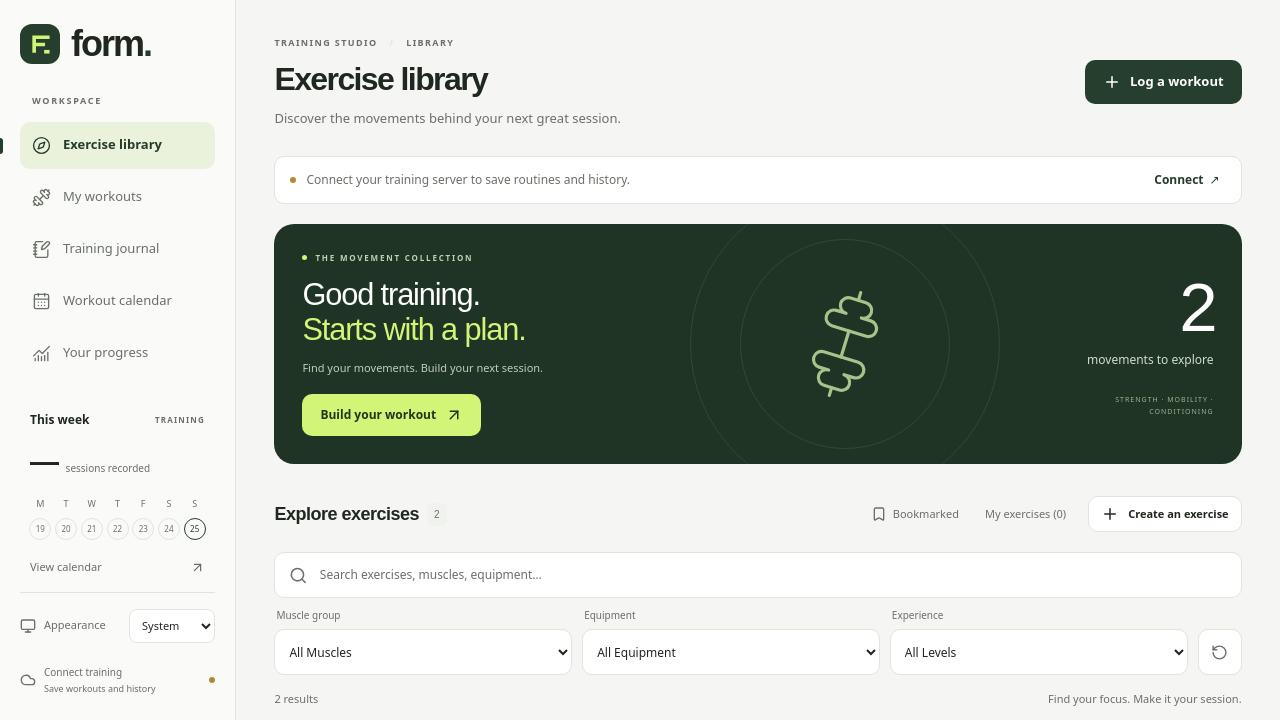
Test case: Exercise discovery and draft behavior › opens the workout logger without randomUUID on an HTTP LAN browser
Click the button "Log a workout" at (1163, 82), box [1085,60,1242,104]
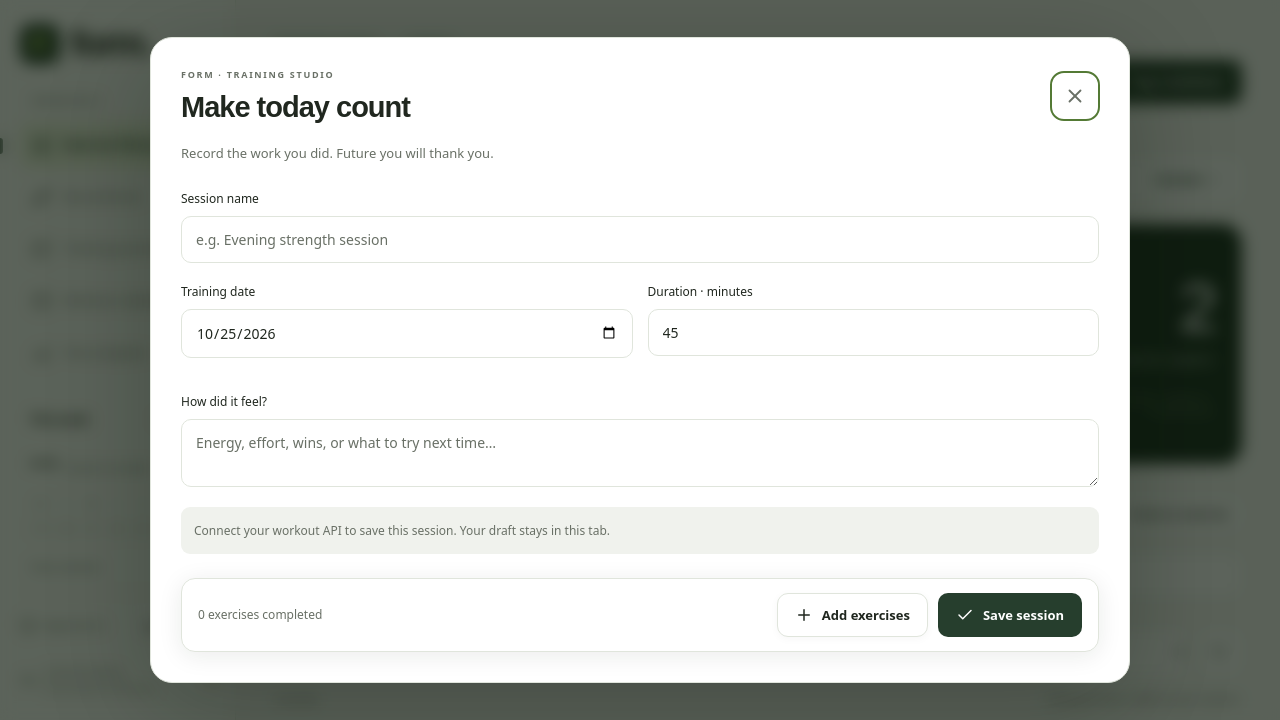
Now the dialog "Make today count" is shown
Now the field labelled "Session name" is shown, box [181,216,1099,263]
